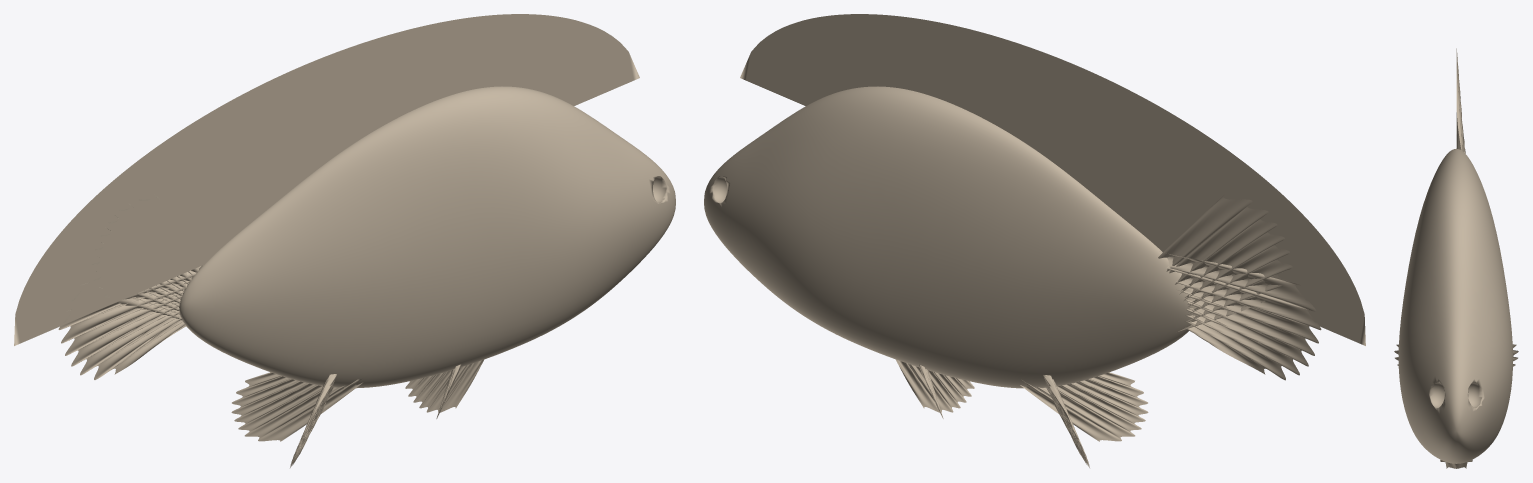
Rendered from 3dcodebench_Fish_seed0_L2_Q1__gemini31pro.glb.
3 renders of one model, left to right at view 1: azimuth 30°, elevation 25°; view 2: azimuth 150°, elevation 25°; view 3: azimuth 270°, elevation 25°, orthographic. The views are drawn at different scales.
Parts seen in each view (by area): view 1: object; view 2: object; view 3: object.
Part boxes in pixels (x1=…): object: x1=14, y1=14, x2=675, y2=467; object: x1=704, y1=14, x2=1365, y2=467; object: x1=1394, y1=48, x2=1518, y2=468.
Size of the model in its own units: 1.66 by 0.943 by 0.2828.
